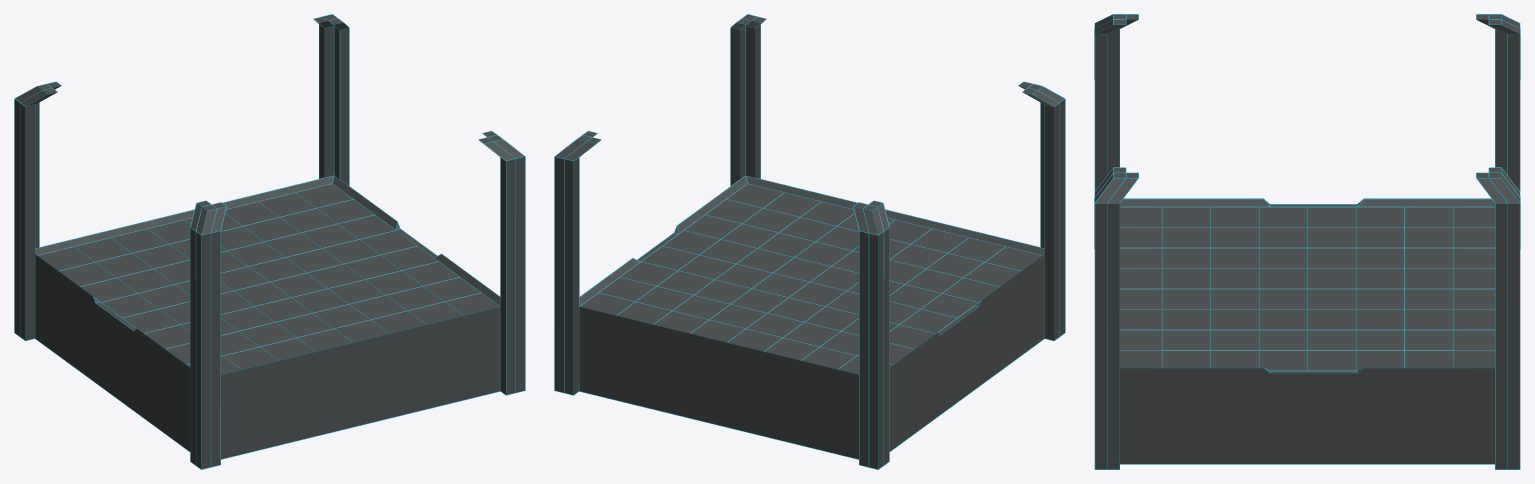
The model's file is struct7.dae.
The picture shows the model from 3 angles, left to right: view 1: azimuth 30°, elevation 25°; view 2: azimuth 150°, elevation 25°; view 3: azimuth 270°, elevation 25°; orthographic projection. The views are drawn at different scales.
Visible parts, largest first — view 1: Export_struct7_a, Export_struct7_b; view 2: Export_struct7_a, Export_struct7_b; view 3: Export_struct7_a, Export_struct7_b.
Boxes of the visible parts, bbox=[...] form: Export_struct7_a: bbox=[15, 14, 524, 469]; Export_struct7_b: bbox=[14, 14, 525, 469]; Export_struct7_a: bbox=[555, 14, 1064, 469]; Export_struct7_b: bbox=[554, 14, 1065, 469]; Export_struct7_a: bbox=[1095, 14, 1519, 469]; Export_struct7_b: bbox=[1094, 14, 1520, 469].
Size of what is drawn, in the model's own units: 136 by 136 by 100.
